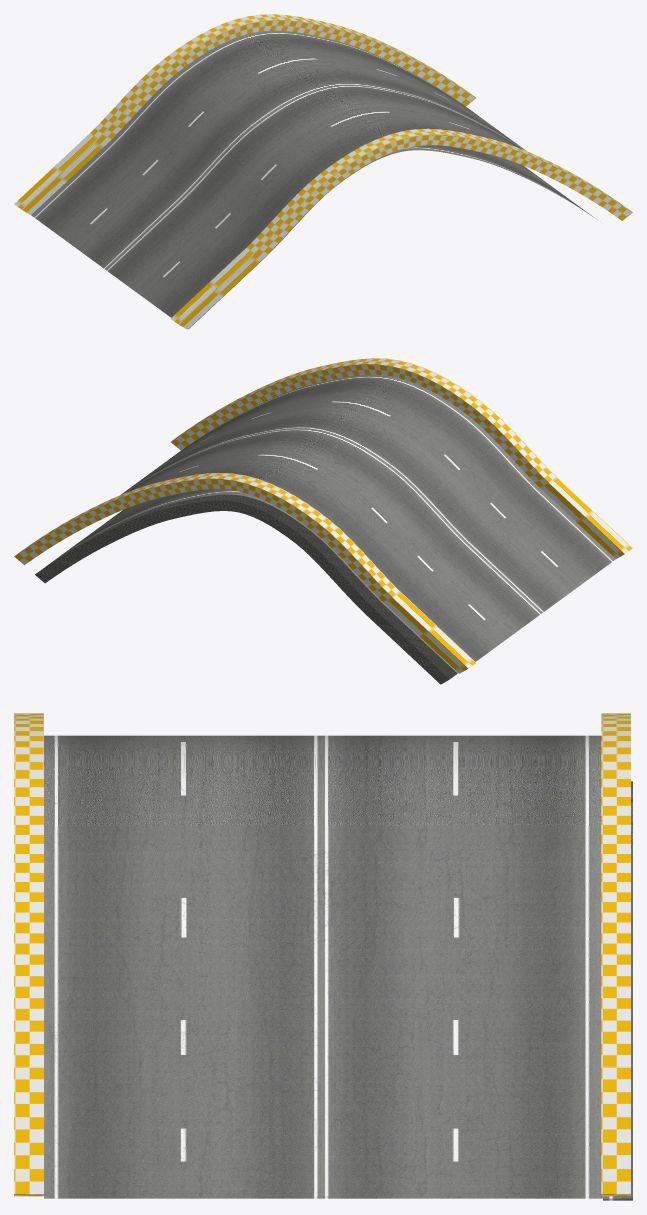
The model's file is arc road shpe.FBX.
The picture shows the model from 3 angles, top to bottom: view 1: azimuth 30°, elevation 25°; view 2: azimuth 150°, elevation 25°; view 3: azimuth 270°, elevation 25°; orthographic projection. The views are drawn at different scales.
Visible parts, largest first — view 1: Line001, arc road patch; view 2: Line001, arc road patch; view 3: Line001, arc road patch.
Part boxes in pixels (x1,y1,x2,y2): Line001: [31, 30, 596, 328]; arc road patch: [14, 14, 632, 329]; Line001: [35, 374, 615, 684]; arc road patch: [14, 358, 632, 673]; Line001: [44, 735, 632, 1200]; arc road patch: [14, 713, 630, 1196].
Bounding box in the file's own units: 90.17 × 29.07 × 56.67.
2 materials, 2 textured.
